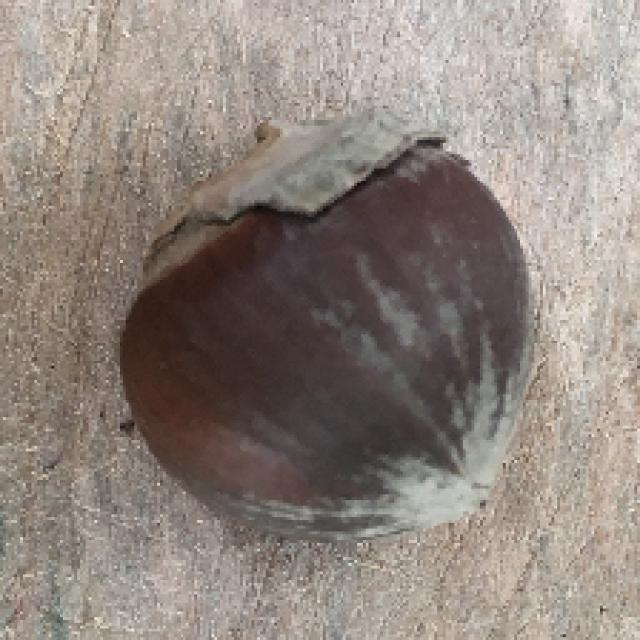damagedHazelnut: (110, 108, 533, 552)
